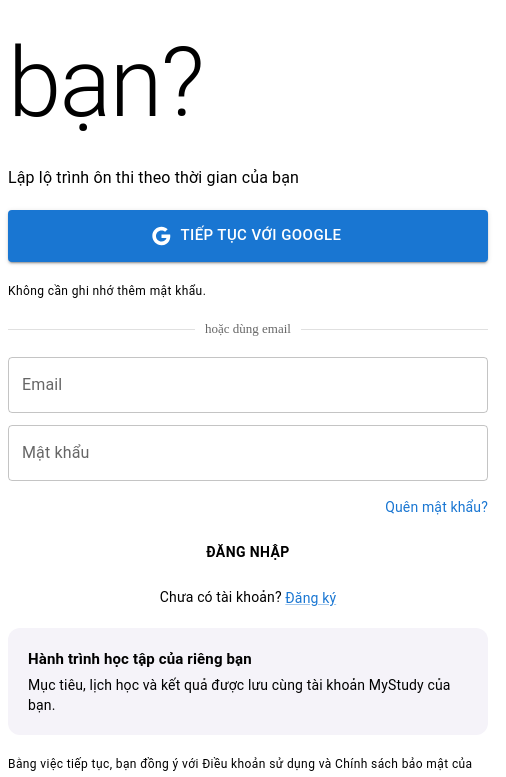
Scenario: SignInPanel › shows the server message on bad credentials
(page scrolled)
Expected: the button "Đăng nhập" is enabled, [8,529,488,575]
Type "a@b.co" into the field labelled "Email".
click(248, 385); type("a@b.co")  # box [8,357,488,413]
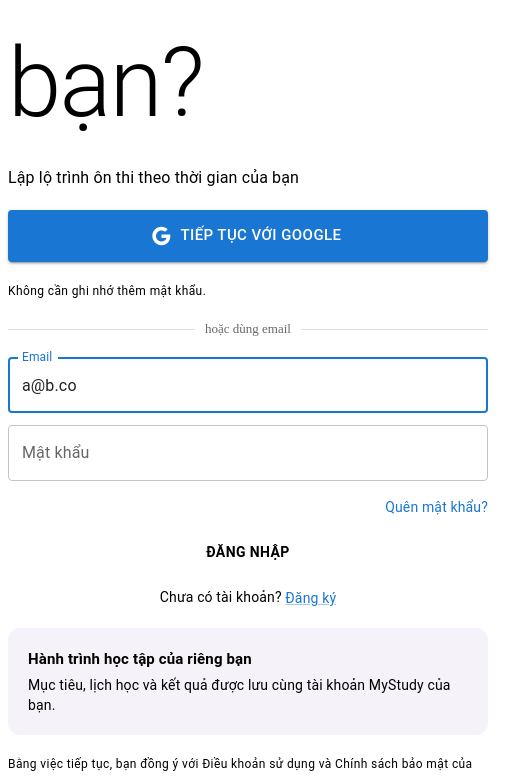
Type "wrong" into the password field labelled "Mật khẩu".
click(248, 453); type("wrong")  # box [8,425,488,481]
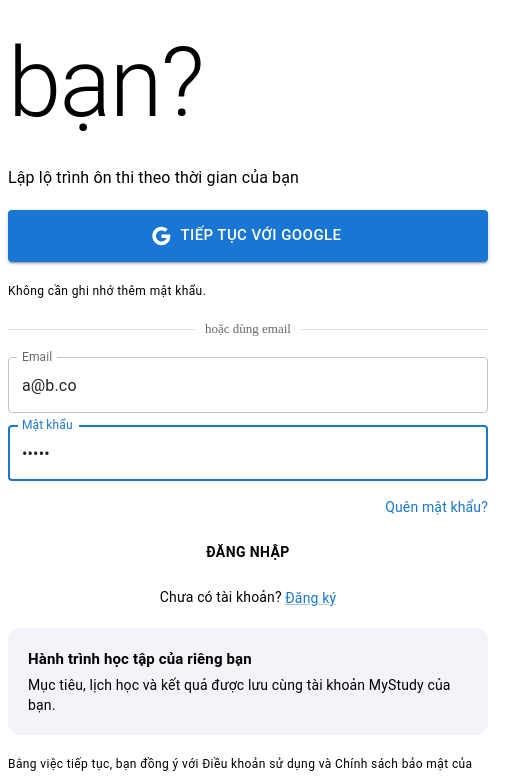
Click the button "Đăng nhập".
click(248, 552)  # box [8,529,488,575]
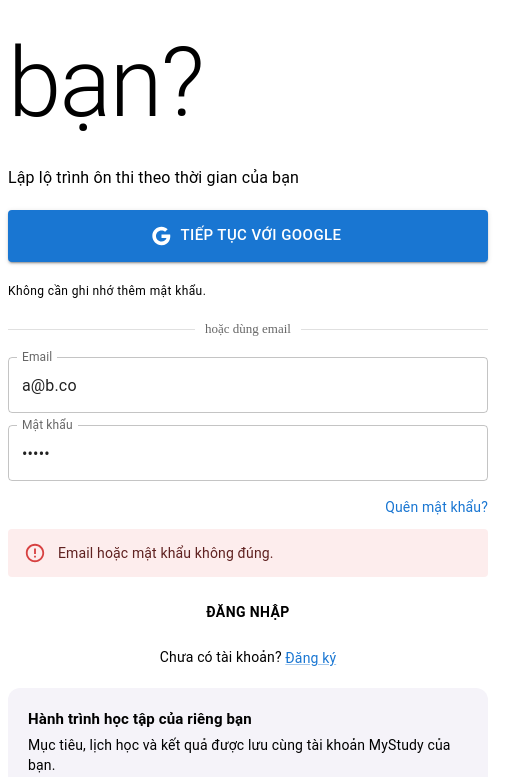
Result: the message reads "Email hoặc mật khẩu không đúng." at [58,545,274,561]
